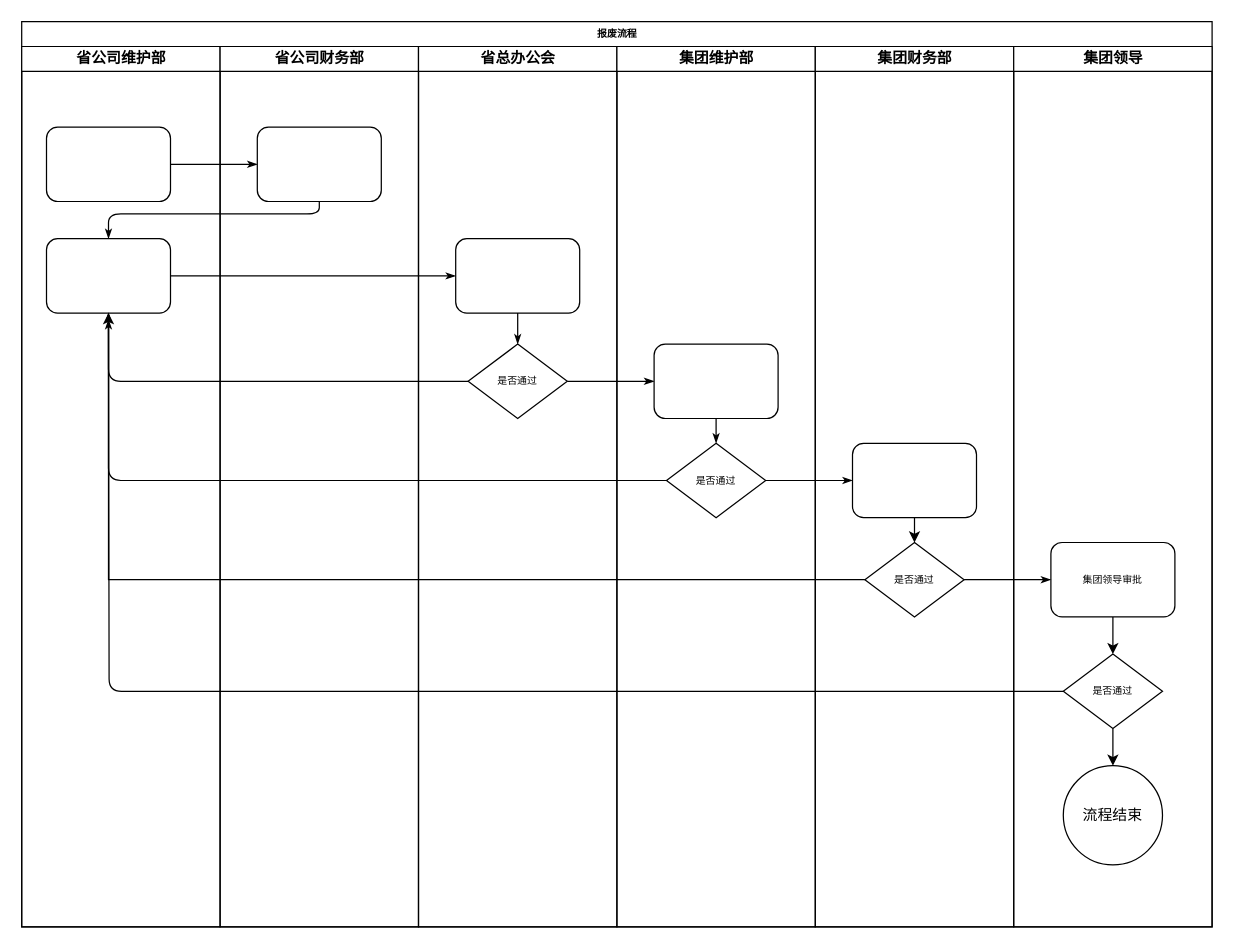
Image size: 1234x949. Some labels were removed from this diagram. Here are the shapes that lost their labels. From the top down, the centre of each, then its label:
At [107,164]: "资产报废技术鉴定及材料准备".
At [318,164]: "资产报废财务核算".
At [107,275]: "资产报废申请".
At [517,275]: "总经理办公会审议".
At [715,380]: "集团维护技术鉴定".
At [913,480]: "集团财务资产鉴定".
